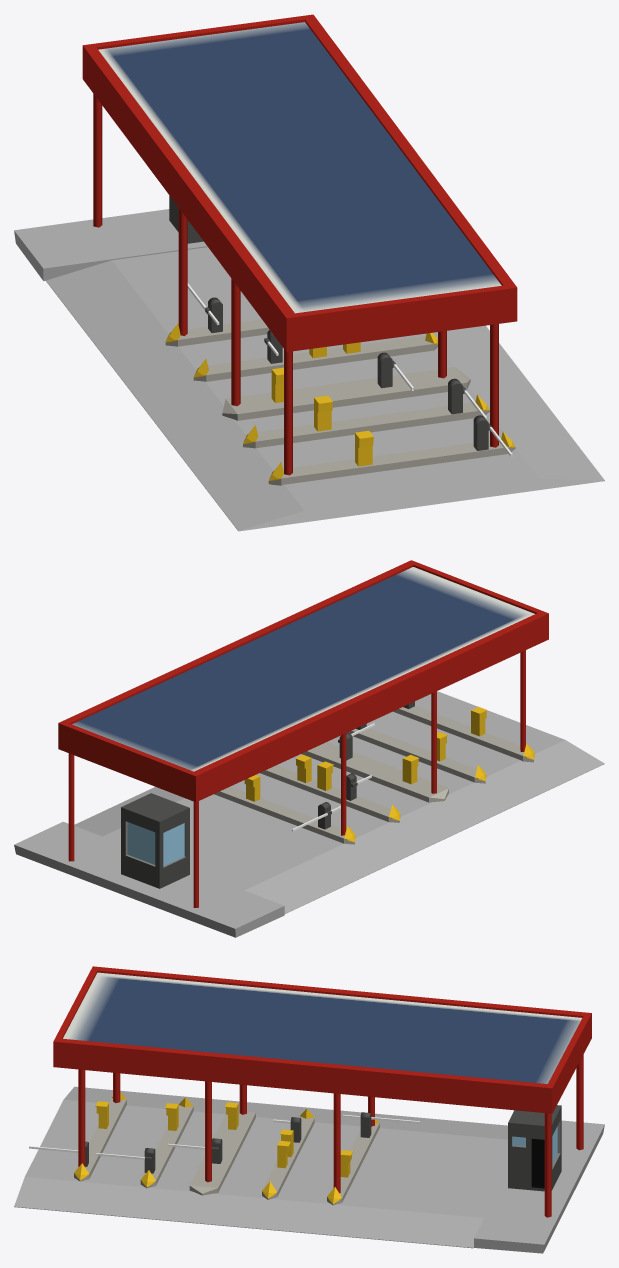
File: porte nutibara vehicular lod 1 vu.fbx
3 renders of one model, top to bottom at view 1: azimuth 30°, elevation 25°; view 2: azimuth 150°, elevation 25°; view 3: azimuth 270°, elevation 25°, orthographic. The views are drawn at different scales.
Visible parts, largest first — view 1: Porteria nutibara vehicular lod 1; view 2: Porteria nutibara vehicular lod 1; view 3: Porteria nutibara vehicular lod 1.
Part boxes in pixels (x1,y1,x2,y2): Porteria nutibara vehicular lod 1: [14, 14, 604, 531]; Porteria nutibara vehicular lod 1: [14, 560, 604, 937]; Porteria nutibara vehicular lod 1: [14, 966, 604, 1253].
Bounding box in the file's own units: 2234 × 890 × 3337.
